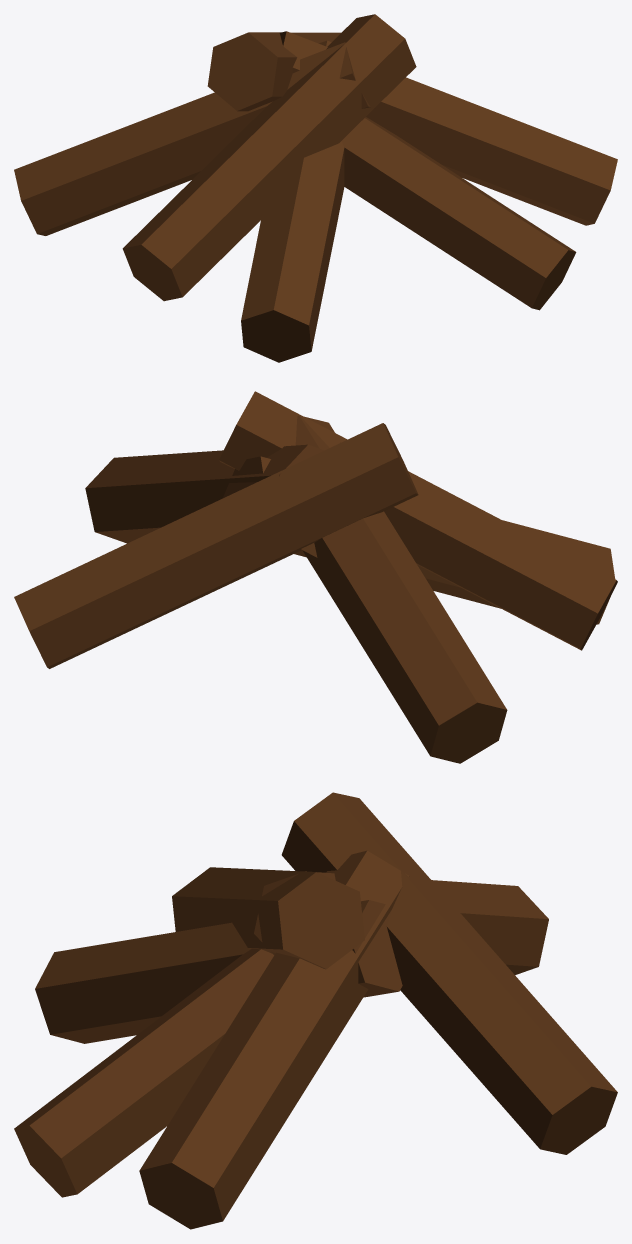
The model's file is bonfire.glb.
3 views of the same model, one above another, from view 1: azimuth 30°, elevation 25°; view 2: azimuth 150°, elevation 25°; view 3: azimuth 270°, elevation 25° (orthographic). The views are drawn at different scales.
Visible parts, largest first — view 1: Bonefire; view 2: Bonefire; view 3: Bonefire.
Boxes of the visible parts, box(x1,y1,x2,y2) form: Bonefire: box(14, 14, 617, 362); Bonefire: box(14, 391, 617, 763); Bonefire: box(14, 792, 617, 1229).
Size of the model in its own units: 3.07 by 1.47 by 2.72.
